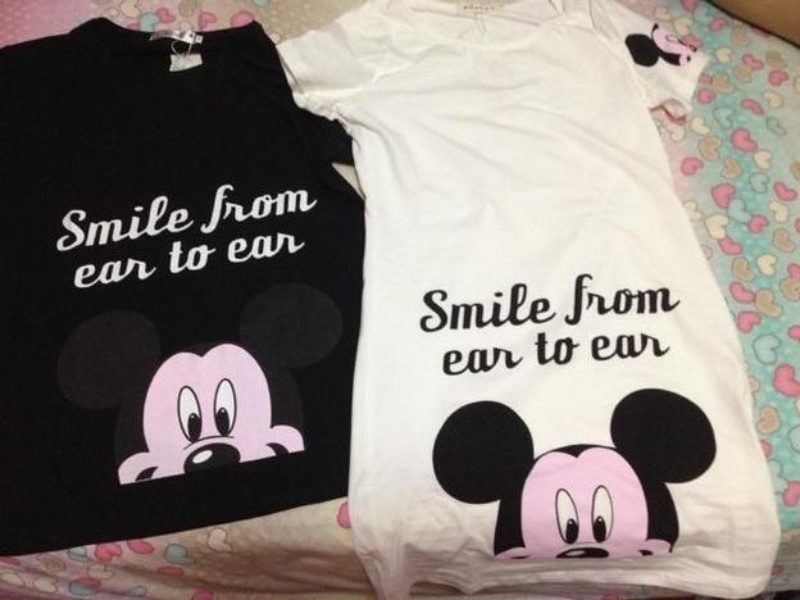short_sleeved_dress: (271, 0, 782, 597)
short_sleeved_shirt: (1, 14, 397, 569)
